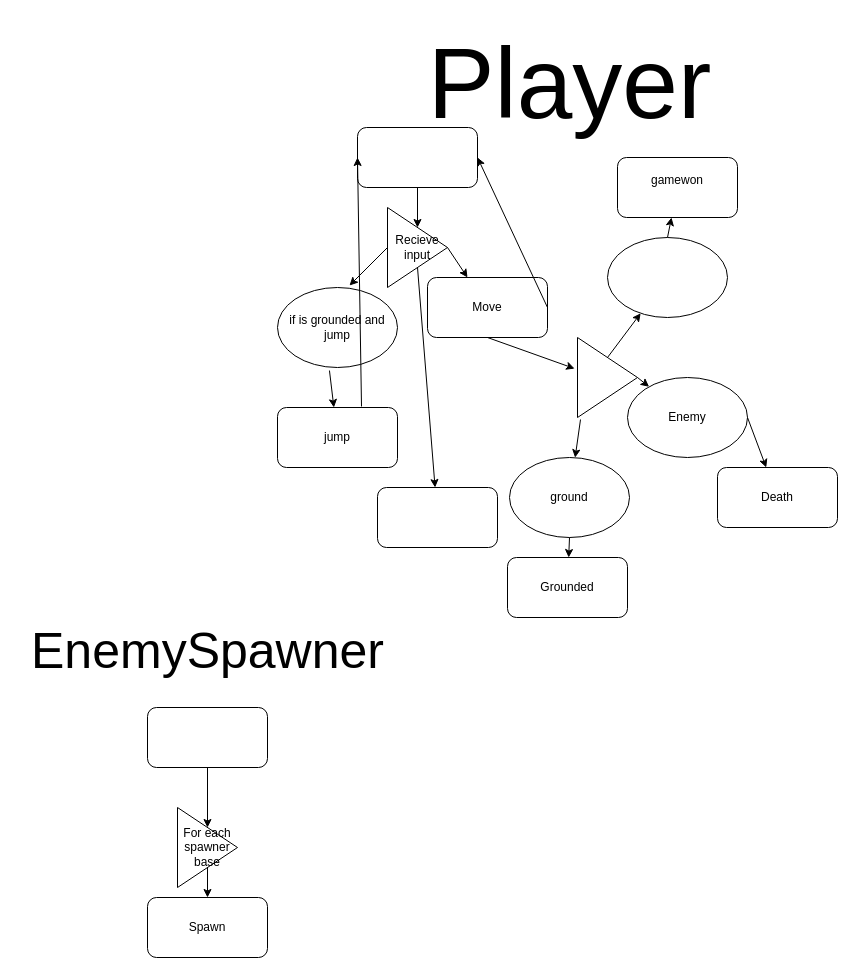
Image size: 855x975. Some labels were removed from this diagram. The centre of each missing label's shape, as x and y in pixels:
"Checkpoint" goes at [667,277].
"Collision" goes at [607,377].
"Idle State" goes at [417,157].
"Start" goes at [207,737].
"Throw weapon" goes at [437,517].
